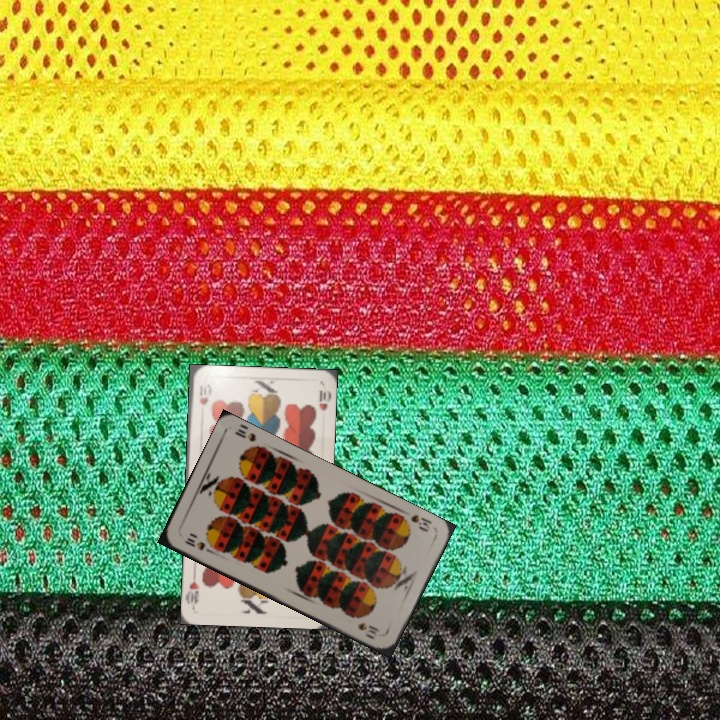H10: (196, 381, 210, 408)
S10: (180, 534, 215, 556), (407, 510, 434, 535)
